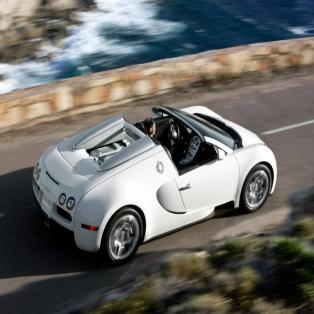Auto: (32, 104, 277, 265)
